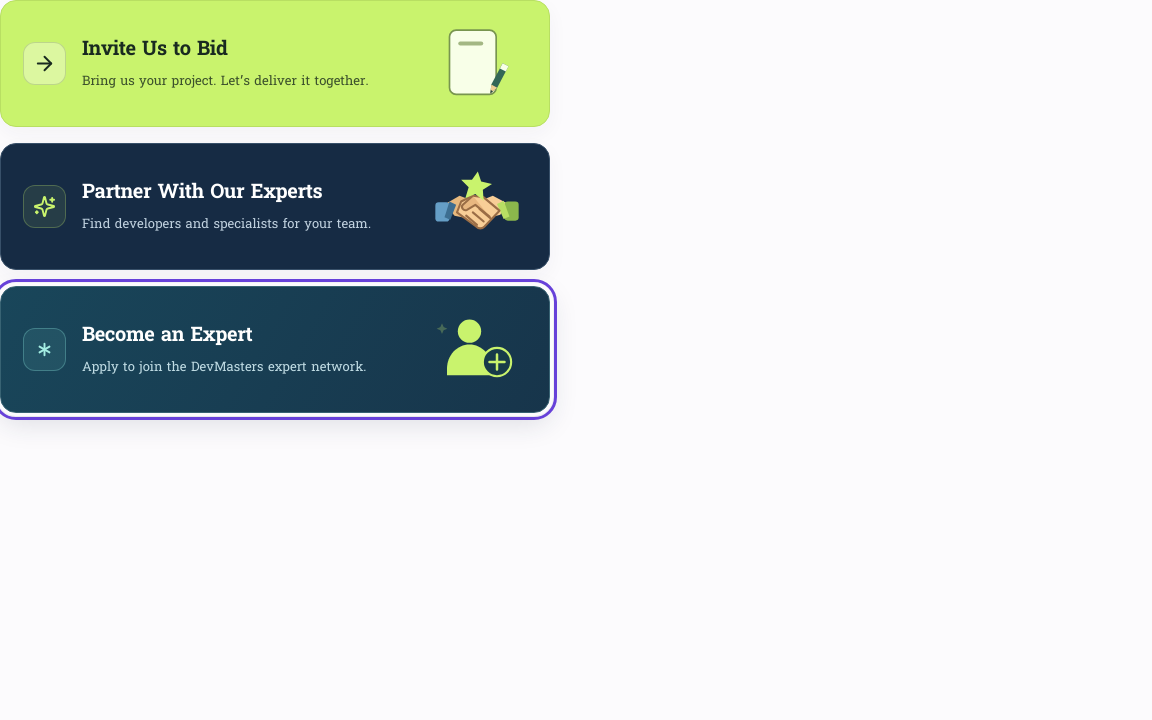
Test: Become an Expert signup preview › shows the requested local-only fields in en on the same homepage URL
Click the button "Become an Expert".
click(44, 350)  # box 0,286 -> 550,413
(page scrolled)
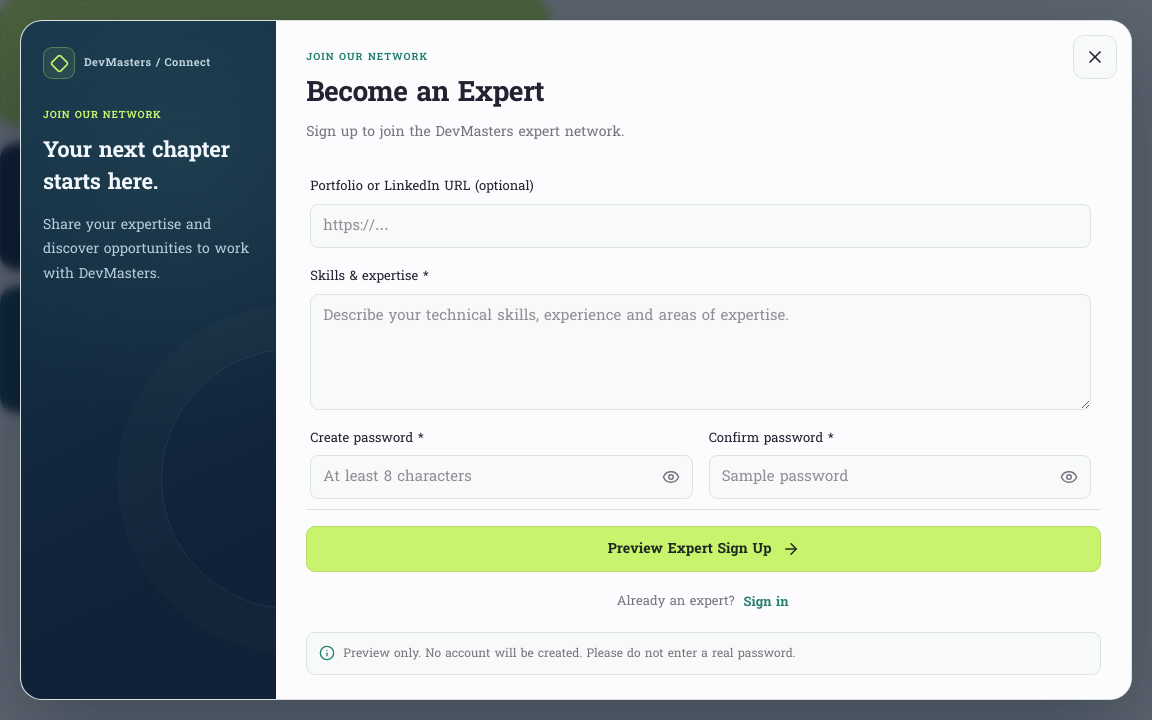
Result: the field labelled "Portfolio or LinkedIn URL (optional)" is shown at 310,204 -> 1091,248
Result: the text box labelled "Skills & expertise *" is shown at 310,294 -> 1091,410
Result: the password field labelled "Create password *" is shown at 310,455 -> 693,500
